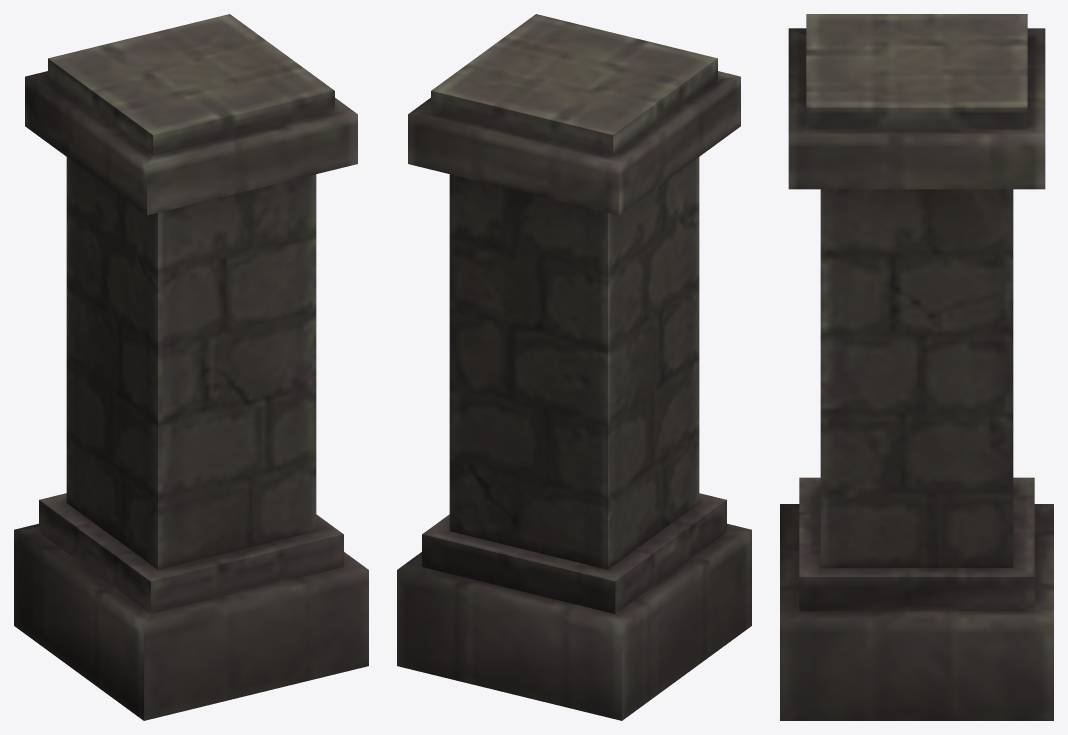
Rendered from jianzhu02.FBX.
The picture shows the model from 3 angles, left to right: view 1: azimuth 30°, elevation 25°; view 2: azimuth 150°, elevation 25°; view 3: azimuth 270°, elevation 25°; orthographic projection. The views are drawn at different scales.
Visible parts, largest first — view 1: polySurface590; view 2: polySurface590; view 3: polySurface590.
Part boxes in pixels (<box>): polySurface590: <box>14,14,368,720</box>; polySurface590: <box>397,14,751,720</box>; polySurface590: <box>780,14,1053,720</box>.
Bounding box in the file's own units: 13.53 × 32.85 × 13.53.
